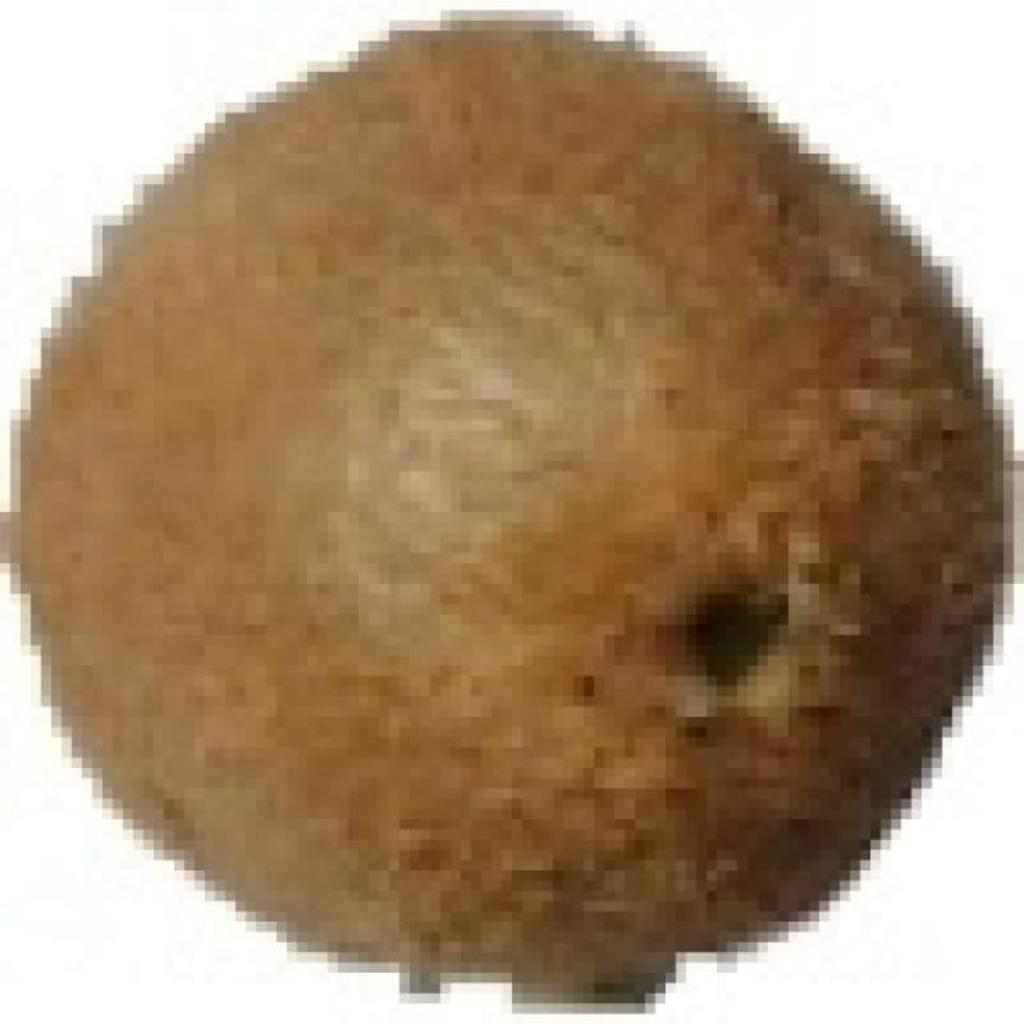kiwi: (10, 10, 983, 983)
